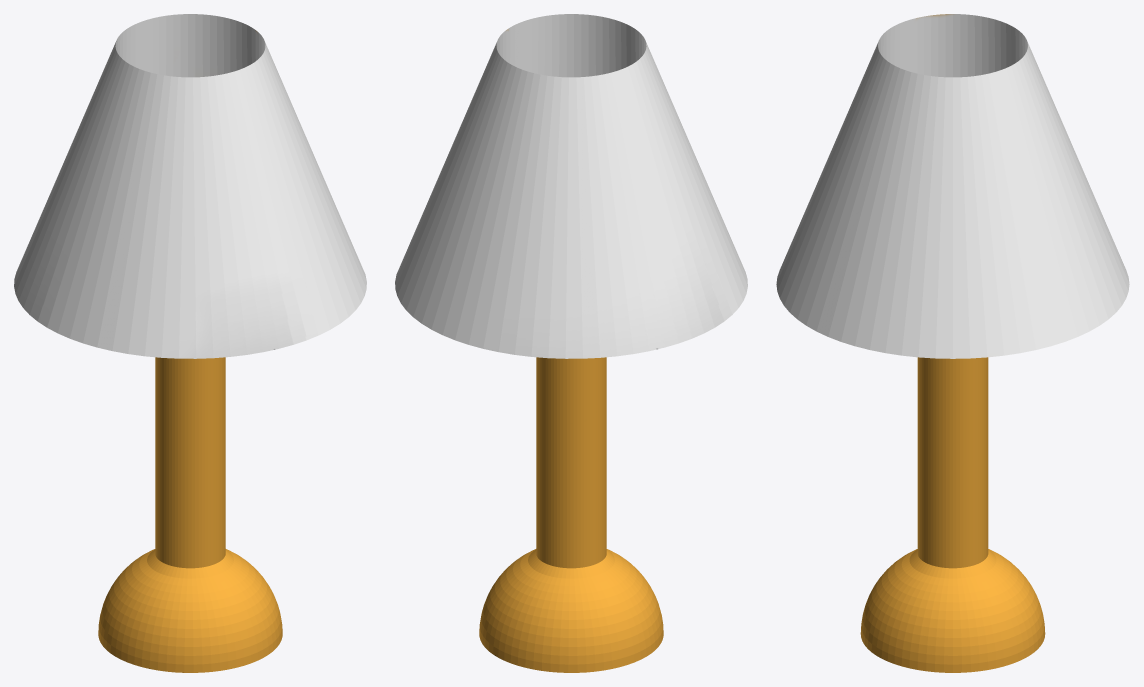
The model's file is lamp.obj.
3 views of the same model, side by side, from view 1: azimuth 30°, elevation 25°; view 2: azimuth 150°, elevation 25°; view 3: azimuth 270°, elevation 25° (orthographic).
Visible parts, largest first — view 1: Sphere; view 2: Sphere; view 3: Sphere.
Part boxes in pixels (<box>): Sphere: <box>14,14,366,672</box>; Sphere: <box>395,14,747,672</box>; Sphere: <box>776,14,1129,672</box>.
Bounding box in the file's own units: 3.83 × 7.04 × 3.83.
